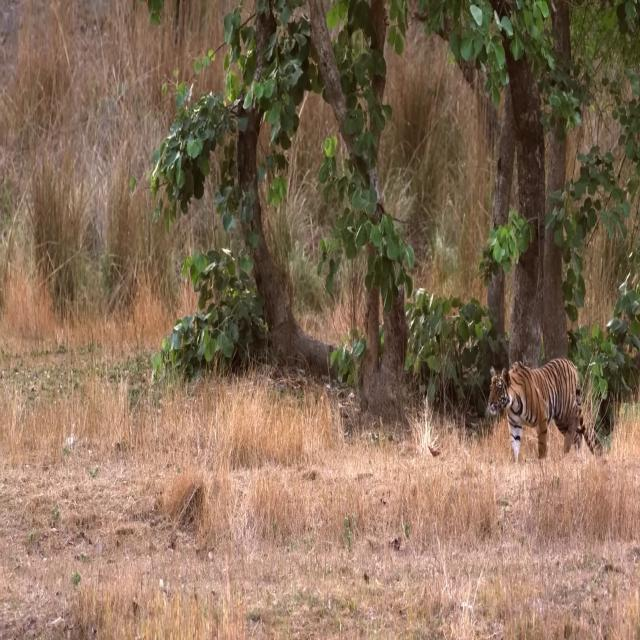tiger: (488, 357, 594, 460)
